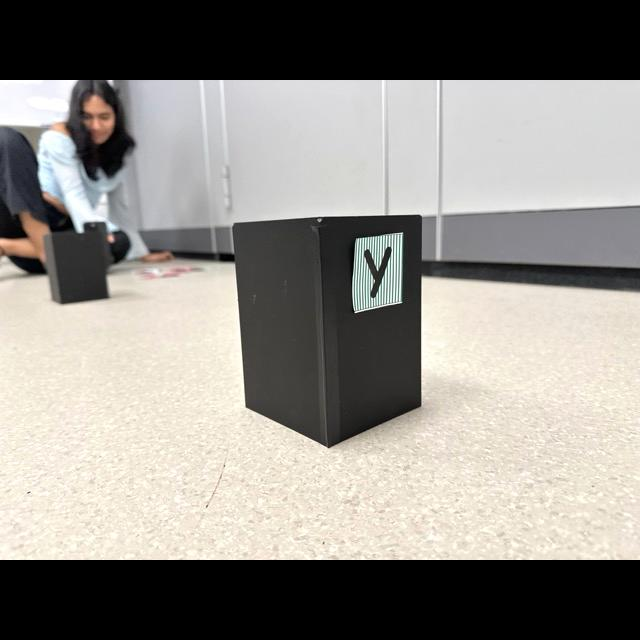Y: (364, 247, 392, 298)
